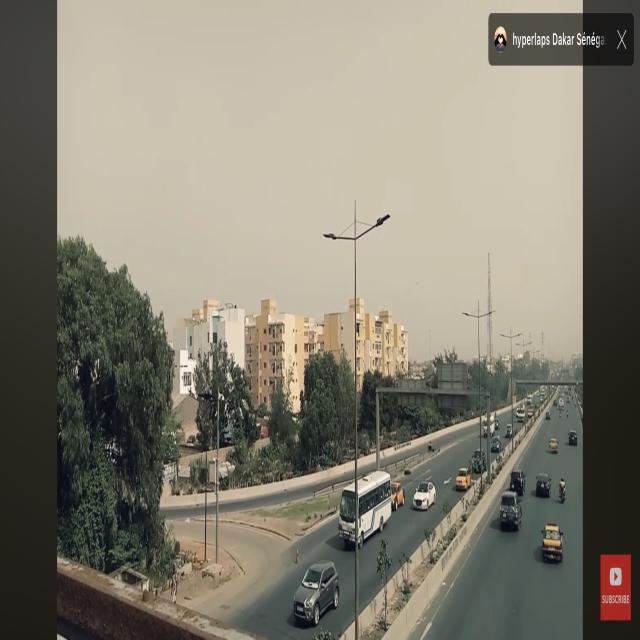bus tata: (339, 471, 393, 547)
moto: (559, 486, 568, 504)
ndiaga ndiaye: (483, 415, 496, 441)
particulier: (294, 560, 341, 626), (500, 489, 524, 533), (414, 478, 439, 514), (511, 468, 527, 497), (537, 472, 552, 501), (473, 449, 487, 474), (569, 430, 580, 448), (492, 436, 502, 454), (506, 424, 515, 441), (547, 412, 552, 421)
taxi: (543, 522, 565, 567), (392, 482, 406, 513), (458, 466, 473, 492), (549, 438, 560, 456)
